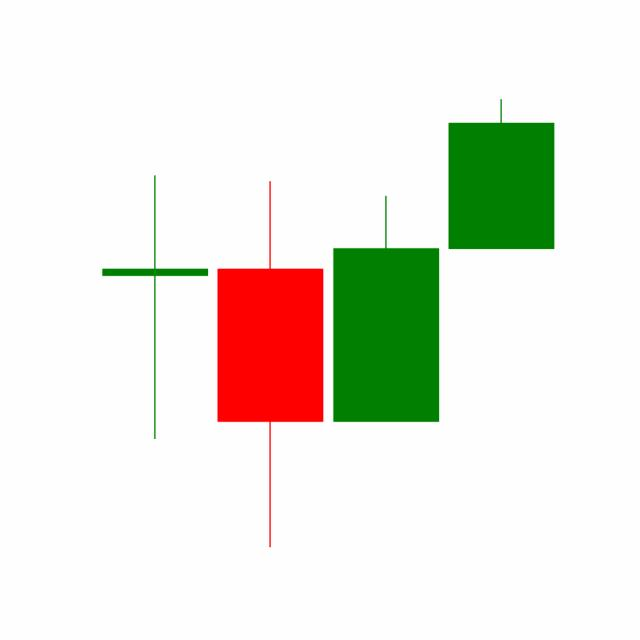Marubozu: (443, 97, 559, 251)
